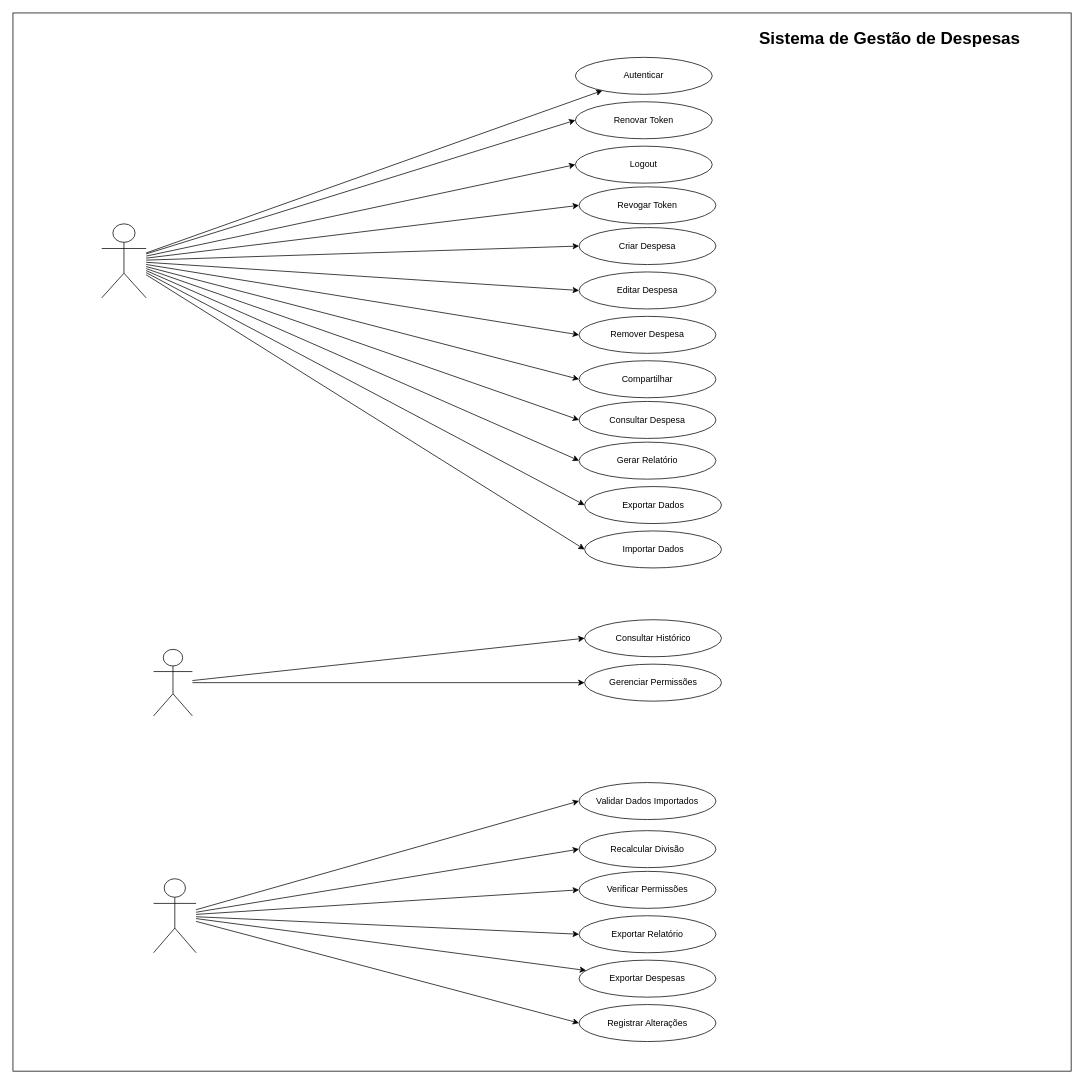
The diagram is 1084 pixels wide and 1084 high, and some of its shapes have lost their labels. The box of each missing label's shape, as (x1, y1, x2, y2) in pixels:
Administrador: (153, 649, 192, 716)
Sistema: (153, 878, 196, 953)
Usuário: (101, 223, 146, 298)
